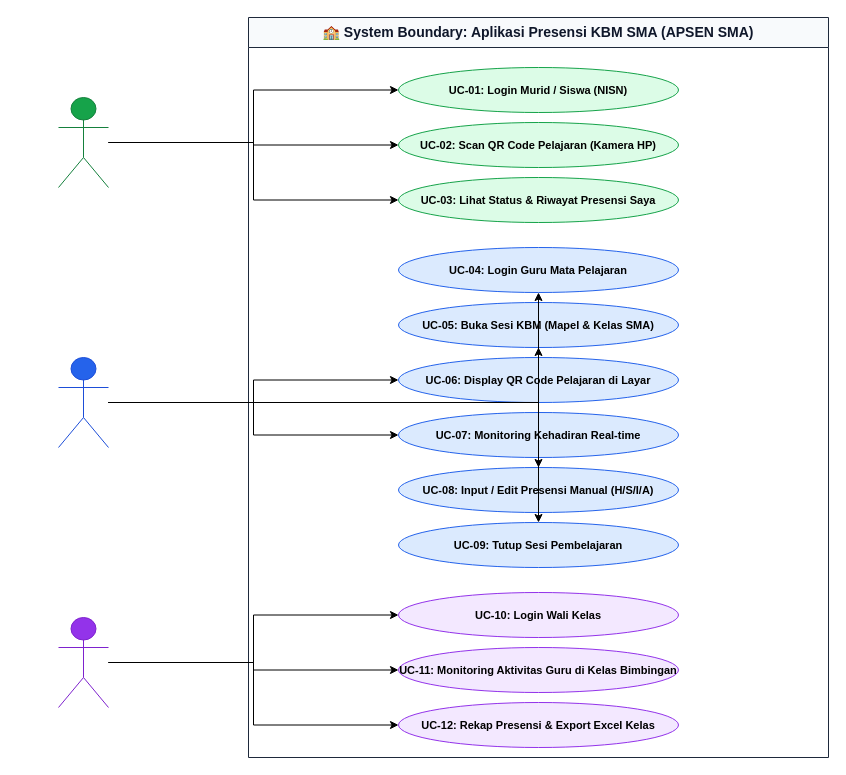
Some shapes in this 846 by 775 pixel diagram are drawn without their labels. The shapes that lost their labels are listed below. From the top down, each one's box as (x1, y1, x2, y2) in pixels, then its label:
(58, 96, 108, 188): 👦 Aktor 1: Murid
(58, 356, 108, 448): 👨‍🏫 Aktor 2: Guru Mapel
(58, 616, 108, 708): 👨‍💼 Aktor 3: Wali Kelas
